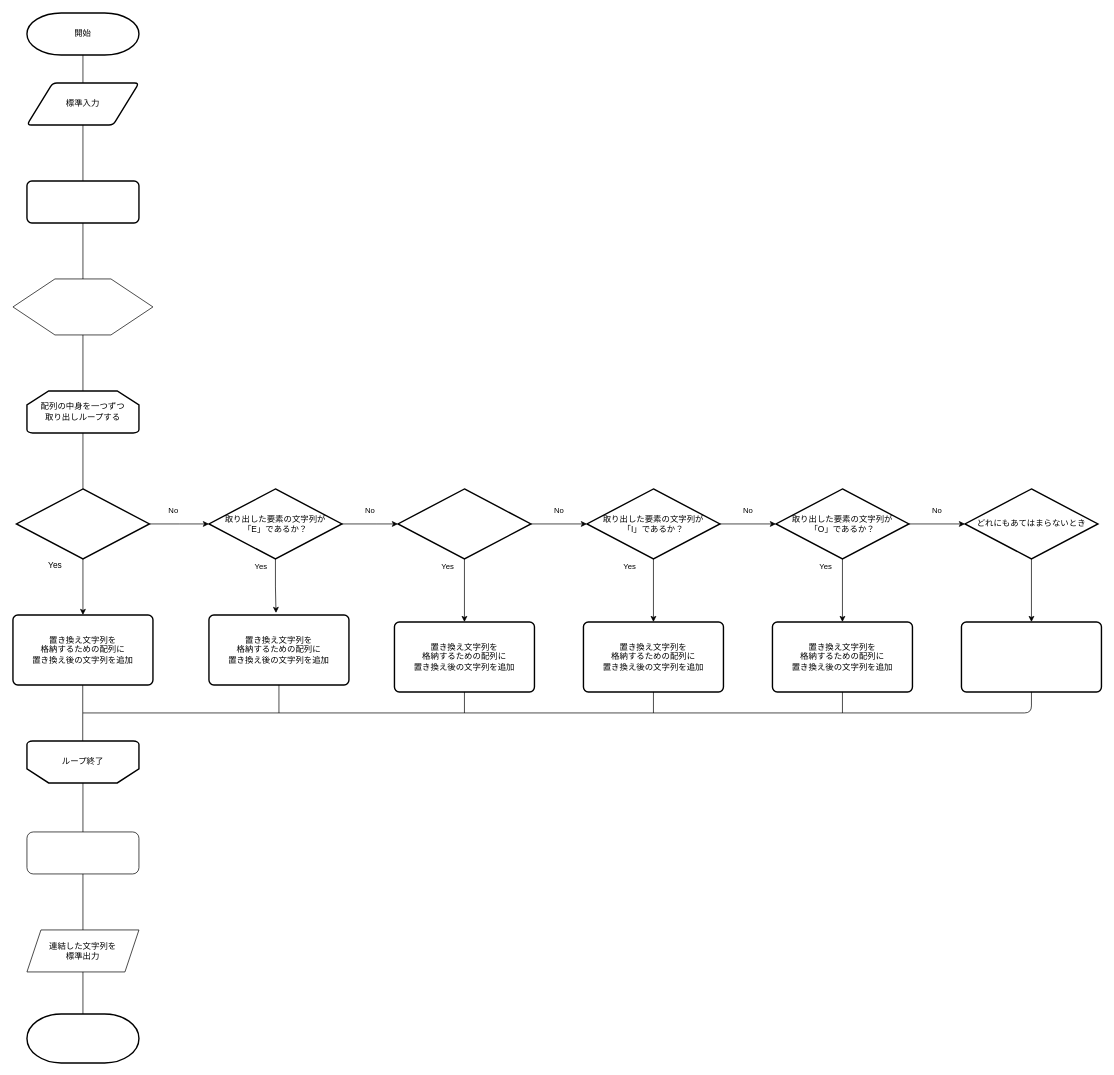
Some shapes in this 1114 by 1075 pixel diagram are drawn without their labels. The box of each missing label's shape, as (x1, y1, x2, y2) in pixels:
お置き換え文字列を 格納するための配列を初期化: (12, 278, 153, 335)
ループで取り出した要素の 文字列を置き換え 文字列を 格納するための 配列に追加する: (960, 621, 1102, 692)
取り出した要素の文字列が 「A」であるか？: (15, 488, 150, 559)
取り出した要素の文字列が 「G」であるか？: (397, 488, 531, 559)
標準入力の値を1文字ずつ 要素として配列化: (26, 180, 139, 223)
終了: (26, 1013, 139, 1063)
配列の要素を全て 文字列連結する: (26, 831, 139, 874)
